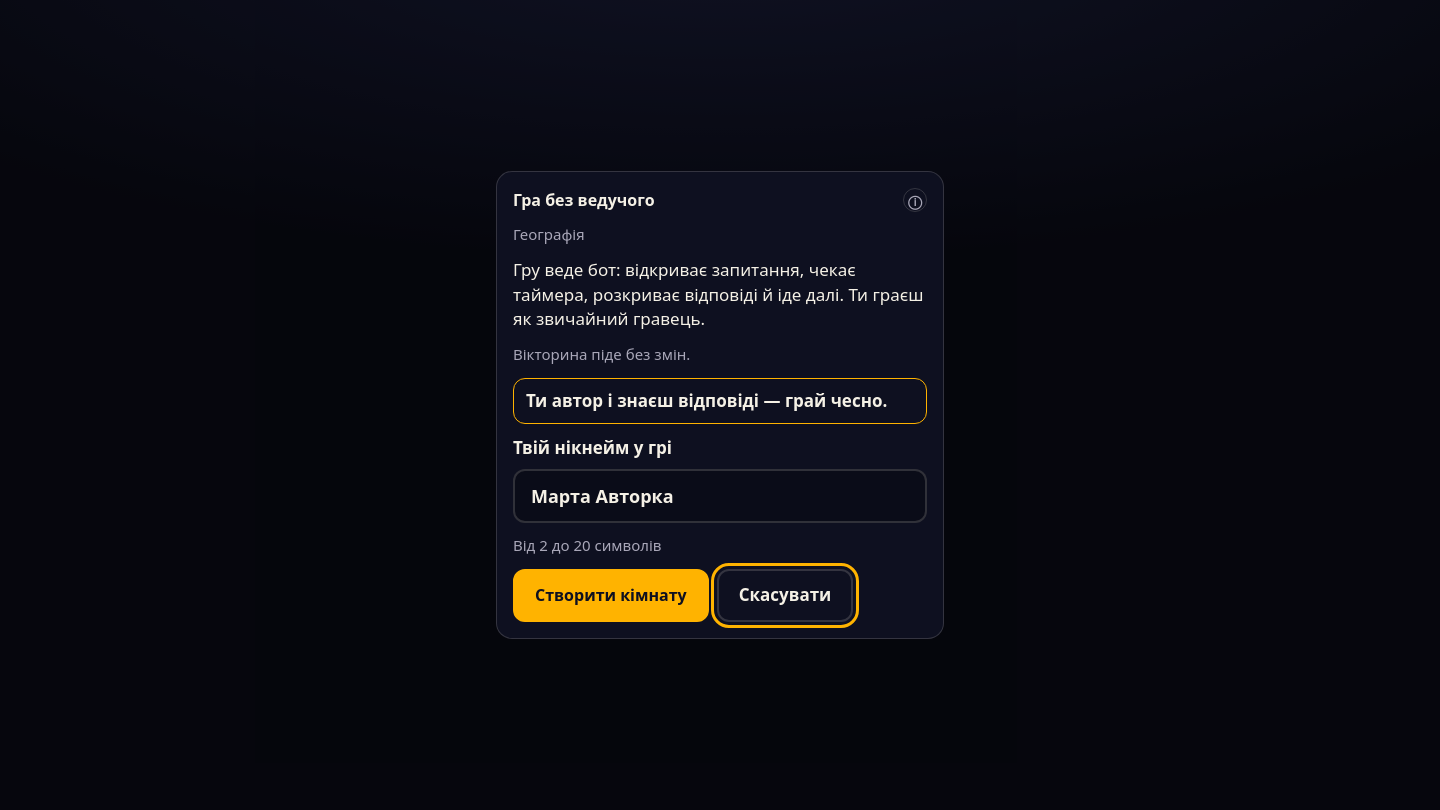
AutopilotLaunch › needs at least two characters
This screenshot has width=1440, height=810.
expect the button "Створити кімнату" is enabled: met, box top-left (513, 569), bottom-right (709, 622)
Step 1. Replace the text in the field showing "Марта Авторка" with "М" → (720, 496), box top-left (513, 469), bottom-right (927, 523)
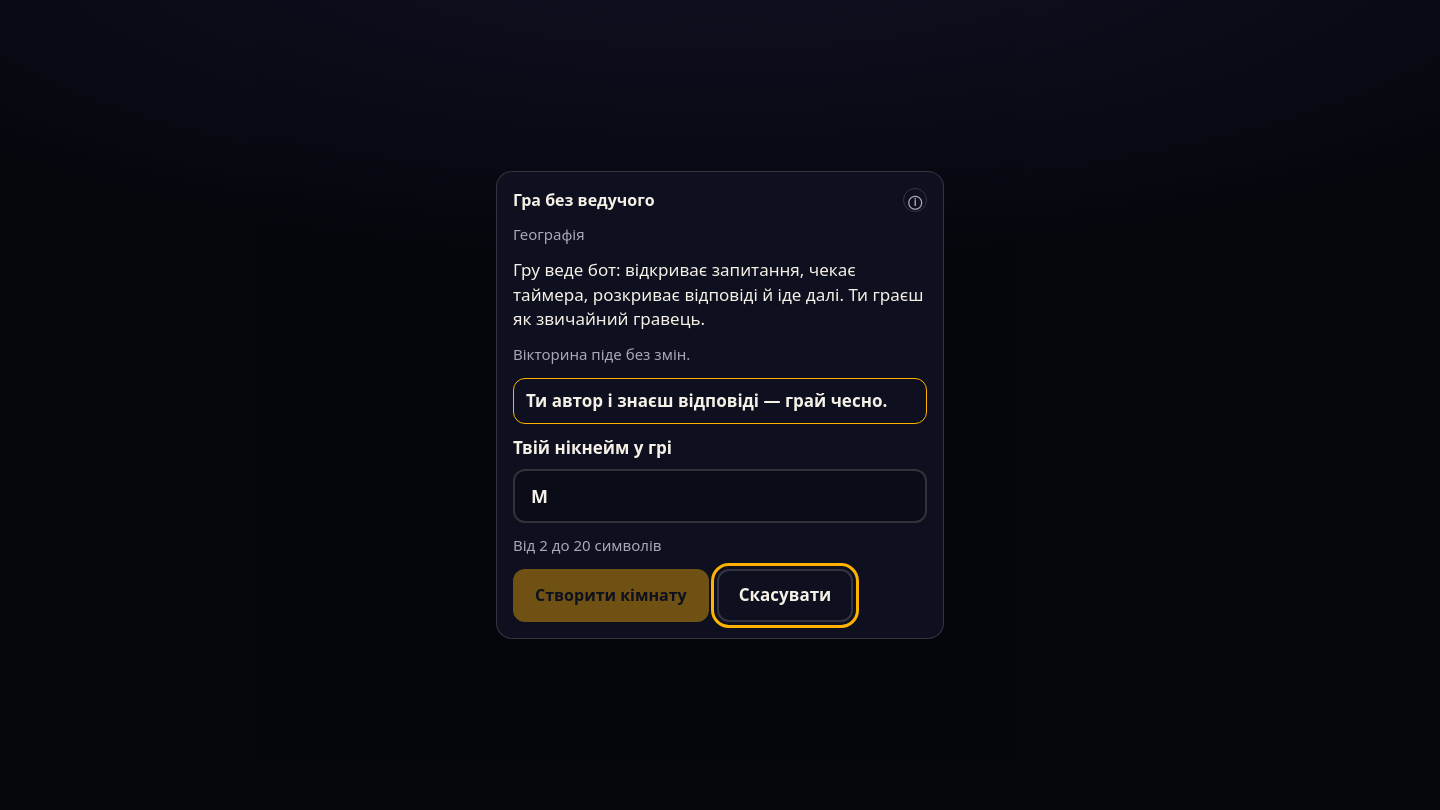
expect the button "Створити кімнату" is disabled: met, box top-left (513, 569), bottom-right (709, 622)
